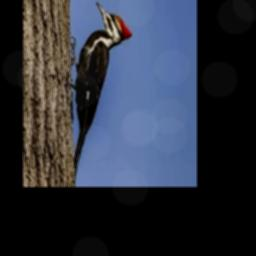Woodpecker: (70, 1, 132, 181)
